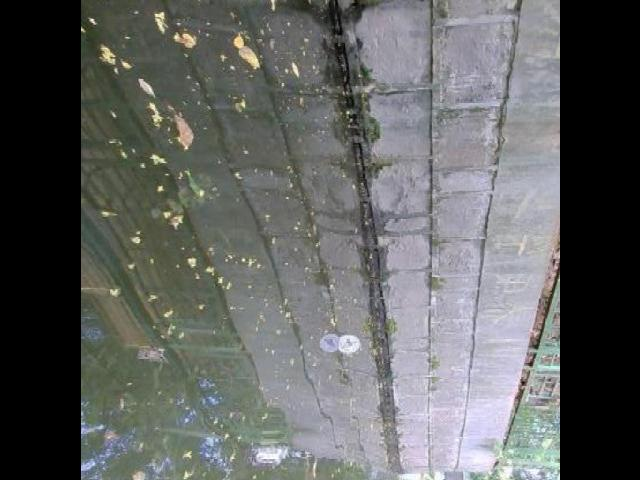Bottle: (330, 326, 366, 360)
